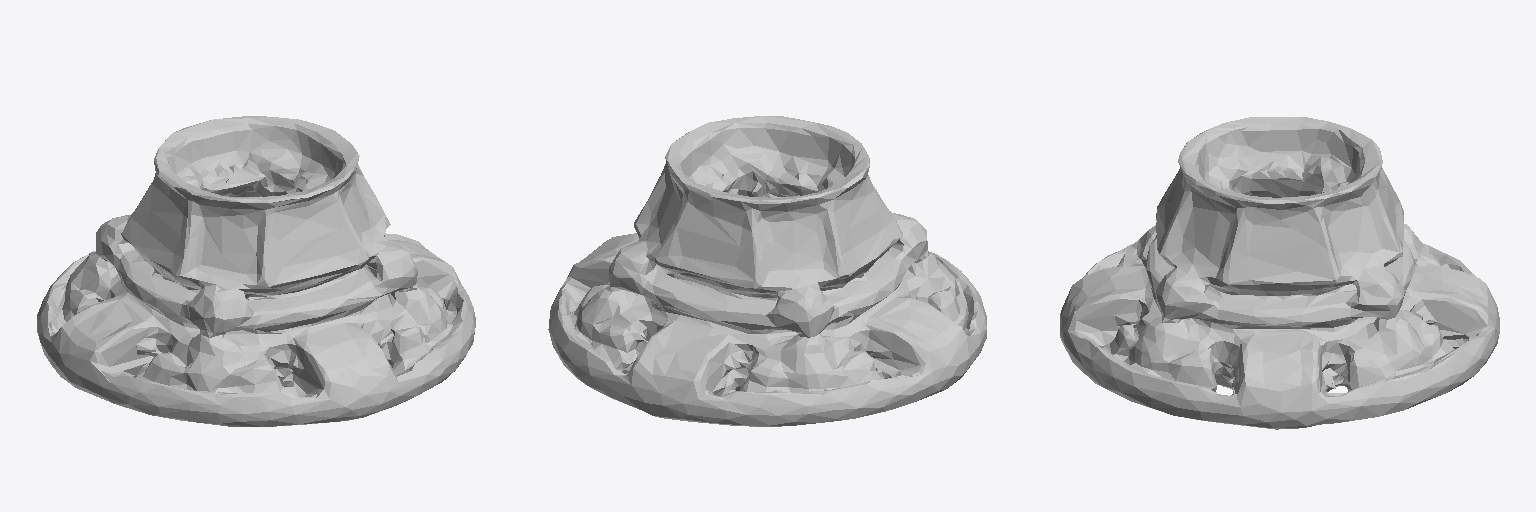
The model's file is 8fc7bfd7542f_Sci_fi_millitary_pl.obj.
3 renders of one model, left to right at view 1: azimuth 30°, elevation 25°; view 2: azimuth 150°, elevation 25°; view 3: azimuth 270°, elevation 25°, orthographic.
Parts seen in each view (by area): view 1: mesh; view 2: mesh; view 3: mesh.
Boxes of the visible parts, x1=… form: mesh: x1=37, y1=116, x2=475, y2=426; mesh: x1=548, y1=116, x2=986, y2=426; mesh: x1=1060, y1=117, x2=1499, y2=429.
Size of the model in its own units: 0.9999 by 0.4915 by 0.9982.